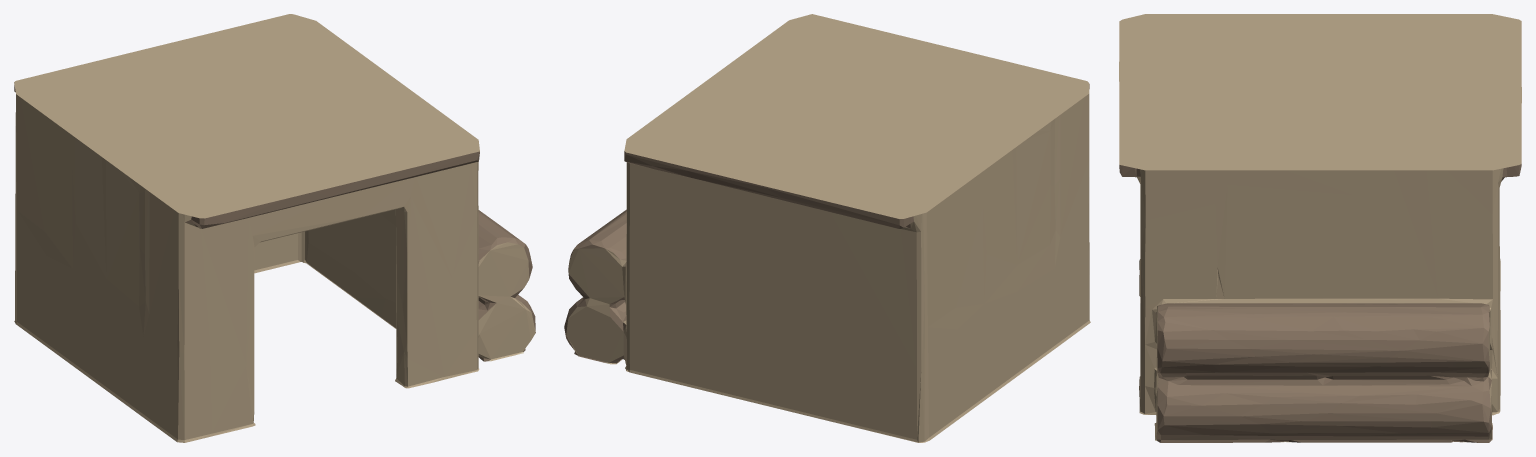
Rendered from etape-1.glb.
3 views of the same model, side by side, from view 1: azimuth 30°, elevation 25°; view 2: azimuth 150°, elevation 25°; view 3: azimuth 270°, elevation 25° (orthographic). The views are drawn at different scales.
Visible parts, largest first — view 1: geometry_0; view 2: geometry_0; view 3: geometry_0.
Boxes of the visible parts, bbox=[...] form: geometry_0: bbox=[14, 14, 535, 442]; geometry_0: bbox=[564, 14, 1090, 442]; geometry_0: bbox=[1119, 14, 1521, 442].
Size of the model in its own units: 0.8413 by 0.5008 by 0.748.
